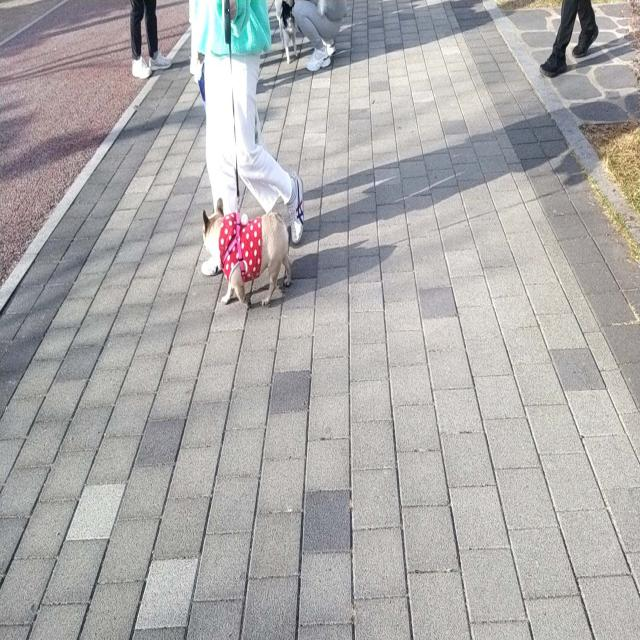Leashed_Dog: (201, 0, 294, 307)
